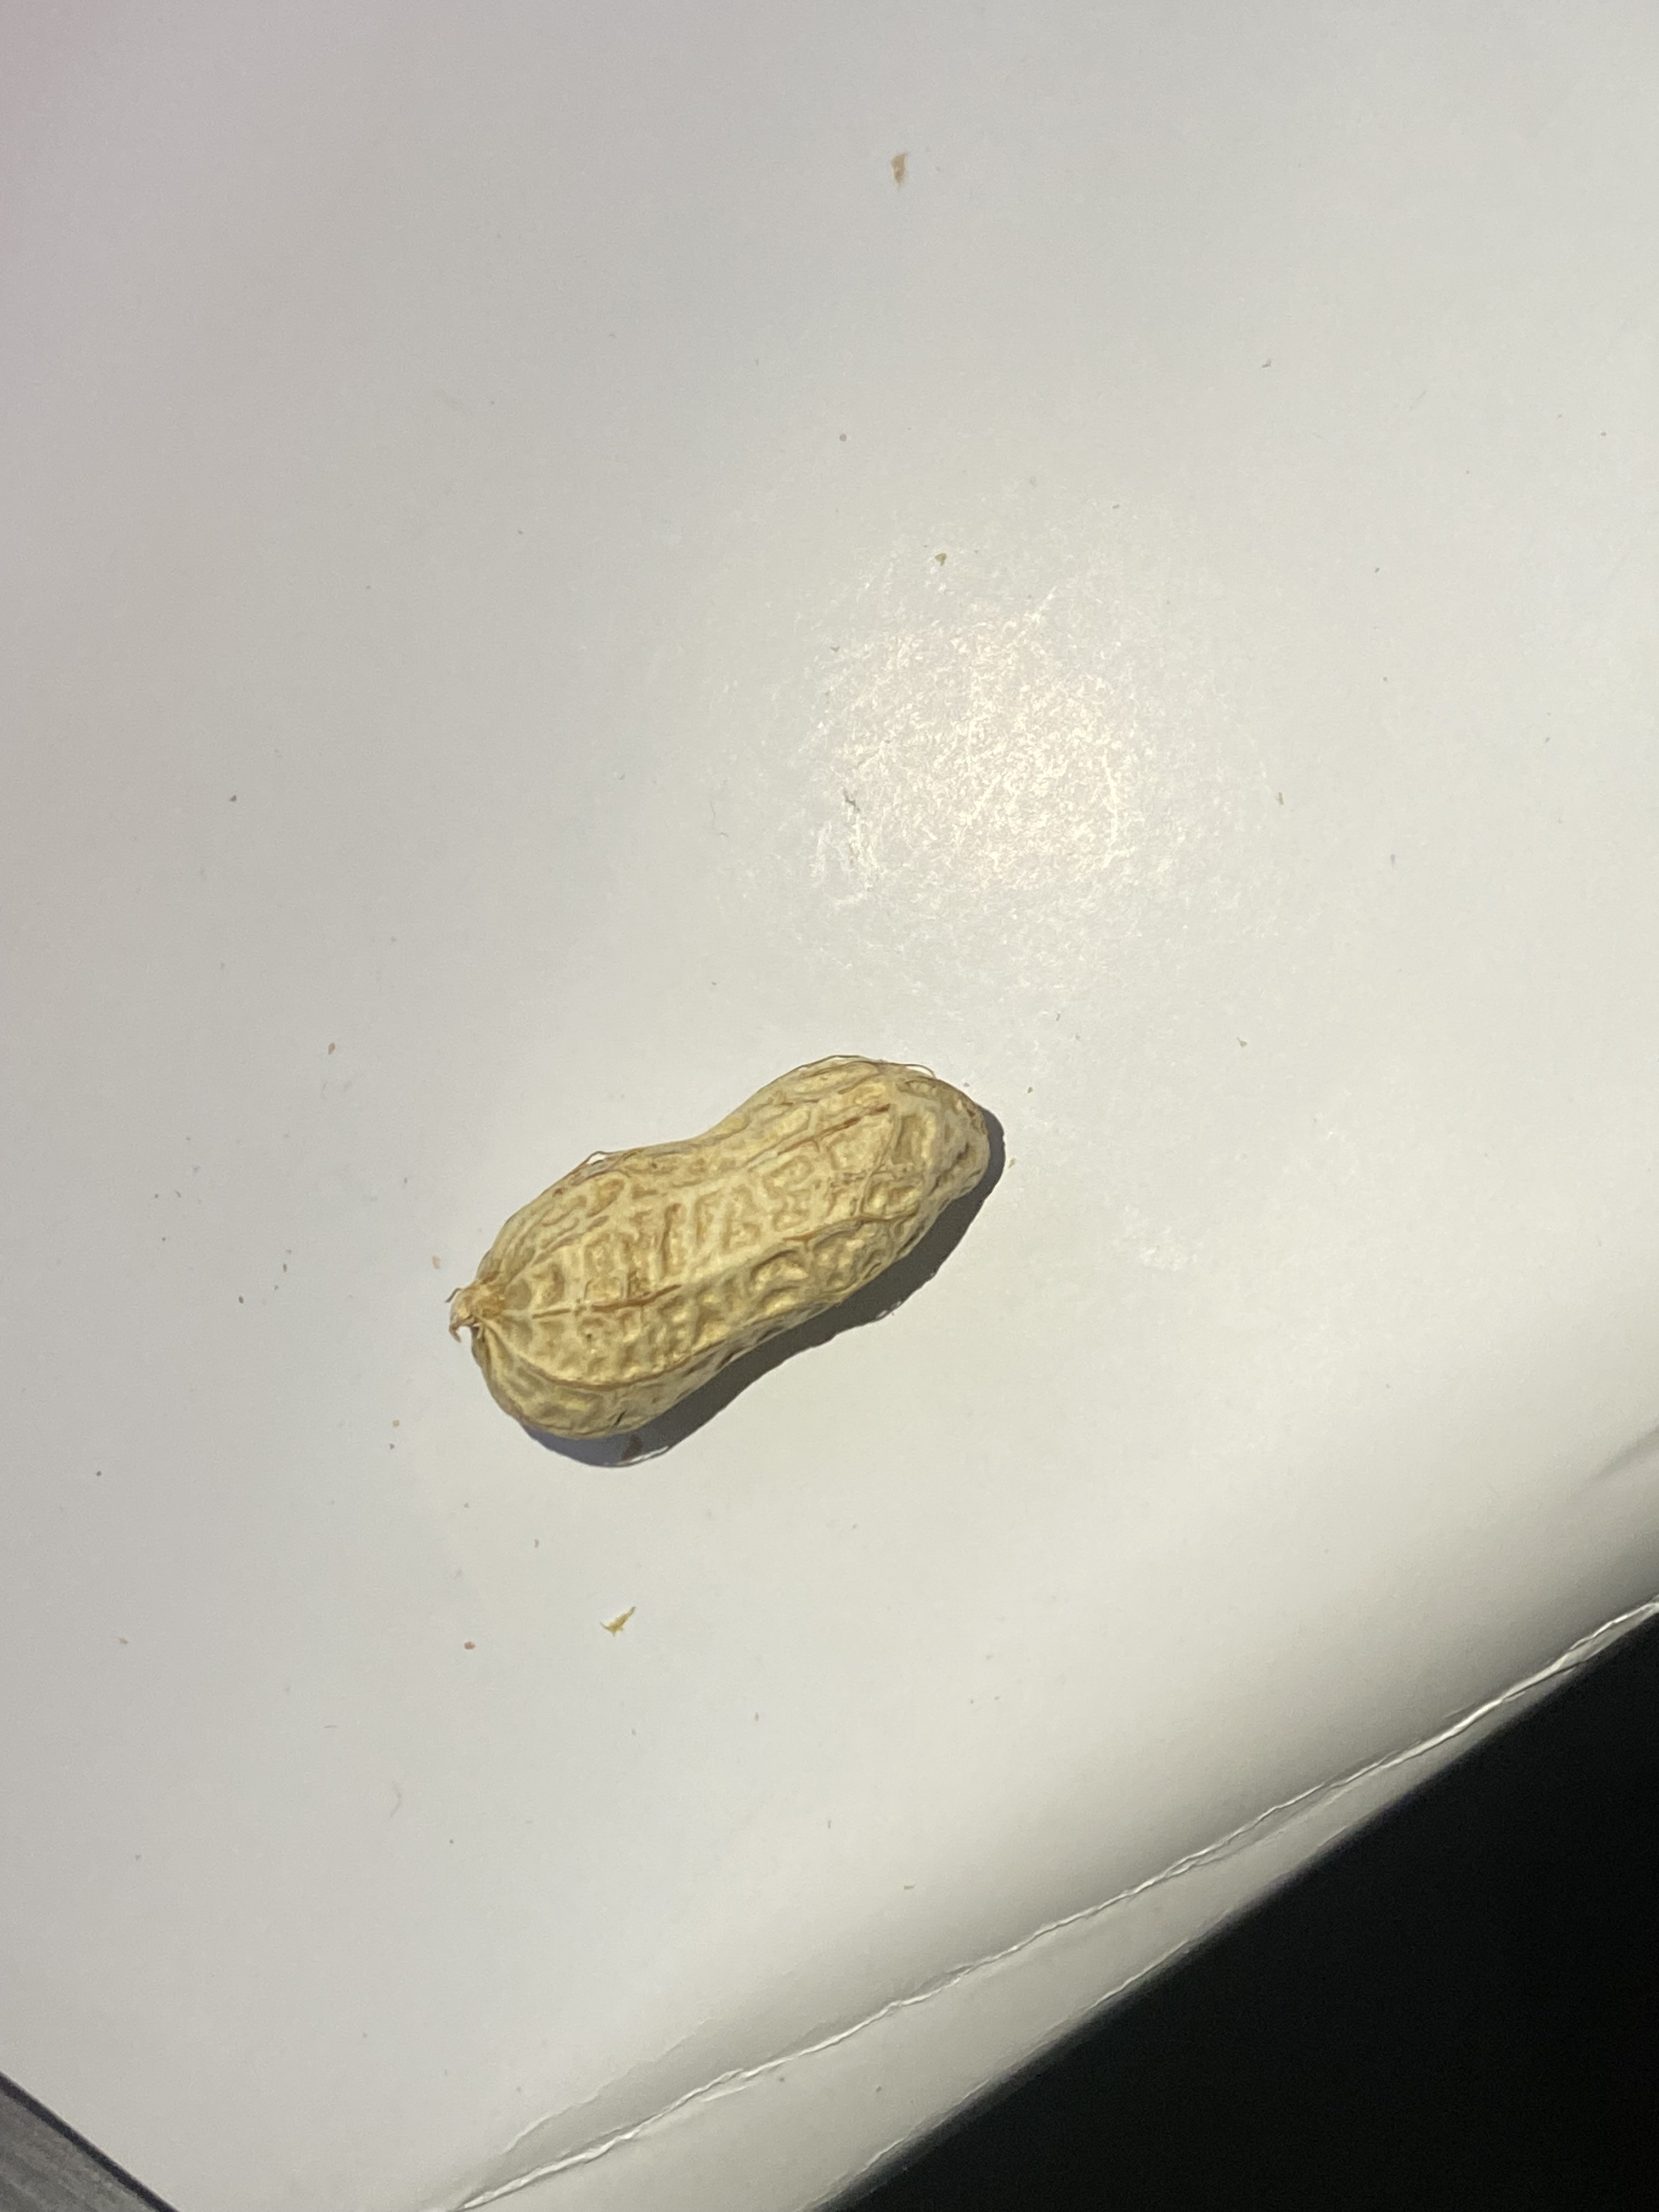kacang2: (429, 1024, 1115, 1463)
